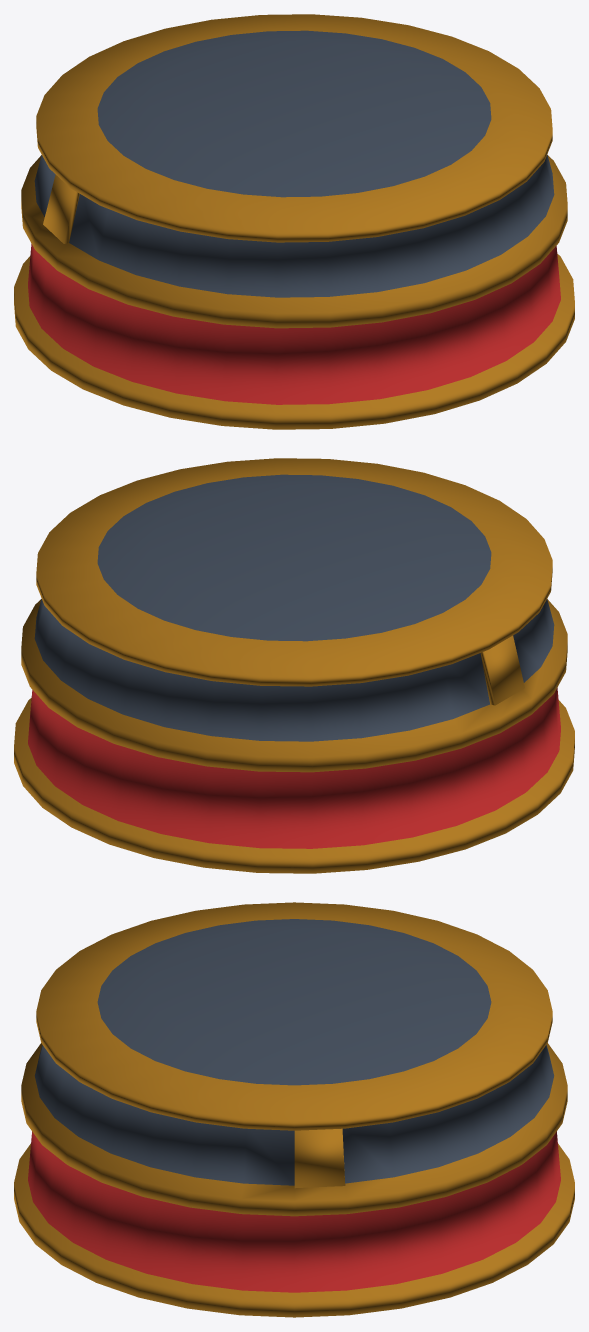
Rendered from hat.fbx.
The picture shows the model from 3 angles, top to bottom: view 1: azimuth 30°, elevation 25°; view 2: azimuth 150°, elevation 25°; view 3: azimuth 270°, elevation 25°; orthographic projection.
Parts seen in each view (by area): view 1: Cylinder; view 2: Cylinder; view 3: Cylinder.
Part boxes in pixels (x1,y1,x2,y2): Cylinder: (14, 14, 574, 429); Cylinder: (14, 458, 574, 873); Cylinder: (14, 902, 574, 1317).
Bounding box in the file's own units: 507 × 210 × 507.
